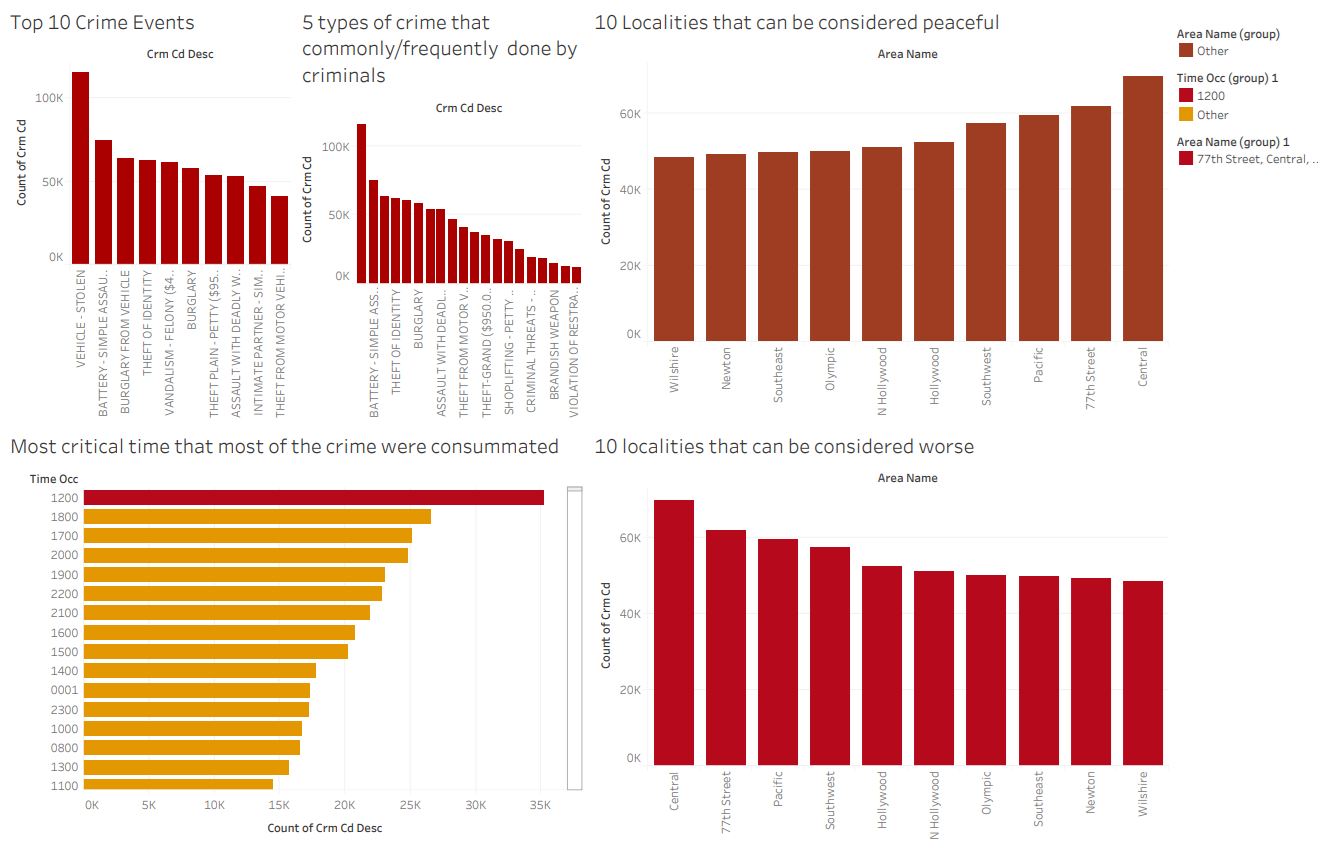

The page's visual inventory and layout, read from the dashboard file:
{"tool":"tableau","page":{"name":"Dashboard 1","canvas":[1000,1000],"units":"permille","ordinal":0},"visuals":[{"type":"worksheet","title":"Top 10 Crime Events","mark":"Automatic","rows":["Crm Cd"],"cols":["Crm Cd Desc"],"box":[3.4,6.6,231.3,493.4]},{"type":"worksheet","title":"5 types of crime that commonly/frequently  done by criminals","mark":"Automatic","rows":["Crm Cd"],"cols":["Crm Cd Desc"],"box":[234.7,6.6,231.3,493.4]},{"type":"worksheet","title":"10 Localities that can be considered peaceful ","mark":"Automatic","rows":["Crm Cd"],"cols":["AREA NAME"],"box":[465.9,6.6,462.5,493.4]},{"type":"legend","title":"Top 10 Crime Events","param":"[federated.04mxdru1ksdrxs11ccsgq0cklrzl].[Crm Cd Desc (group)]","box":[928.5,6.6,68.1,18.1]},{"type":"legend","title":"10 Localities that can be considered peaceful ","param":"[federated.04mxdru1ksdrxs11ccsgq0cklrzl].[Area Name (group)]","box":[928.5,24.7,68.1,37.8]},{"type":"legend","title":"Most critical time that most of the crime were consummated ","param":"[federated.04mxdru1ksdrxs11ccsgq0cklrzl].[Time Occ (group) 1]","box":[928.5,62.5,68.1,54.3]},{"type":"legend","title":"10 localities that can be considered worse","param":"[federated.04mxdru1ksdrxs11ccsgq0cklrzl].[Area Name (group) 1]","box":[928.5,116.8,68.1,37.8]},{"type":"worksheet","title":"Most critical time that most of the crime were consummated ","mark":"Automatic","rows":["TIME OCC"],"cols":["Crm Cd Desc"],"box":[3.4,500,462.5,493.4]},{"type":"worksheet","title":"10 localities that can be considered worse","mark":"Automatic","rows":["Crm Cd"],"cols":["AREA NAME"],"box":[465.9,500,462.5,493.4]}]}

Visuals, with their boxes on the dashboard's canvas, which has no fixed pixel size, in thousandths of its width and height (x1, y1, x2, y2). These are canvas units, not pixel positions in the 1324x845 screenshot, which may show the page scaled, cropped or inside an application window:
"Top 10 Crime Events" worksheet: x1=3, y1=7, x2=235, y2=500
"5 types of crime that commonly/frequently  done by criminals" worksheet: x1=235, y1=7, x2=466, y2=500
"10 Localities that can be considered peaceful " worksheet: x1=466, y1=7, x2=928, y2=500
"Top 10 Crime Events" legend: x1=928, y1=7, x2=997, y2=25
"10 Localities that can be considered peaceful " legend: x1=928, y1=25, x2=997, y2=62
"Most critical time that most of the crime were consummated " legend: x1=928, y1=62, x2=997, y2=117
"10 localities that can be considered worse" legend: x1=928, y1=117, x2=997, y2=155
"Most critical time that most of the crime were consummated " worksheet: x1=3, y1=500, x2=466, y2=993
"10 localities that can be considered worse" worksheet: x1=466, y1=500, x2=928, y2=993
